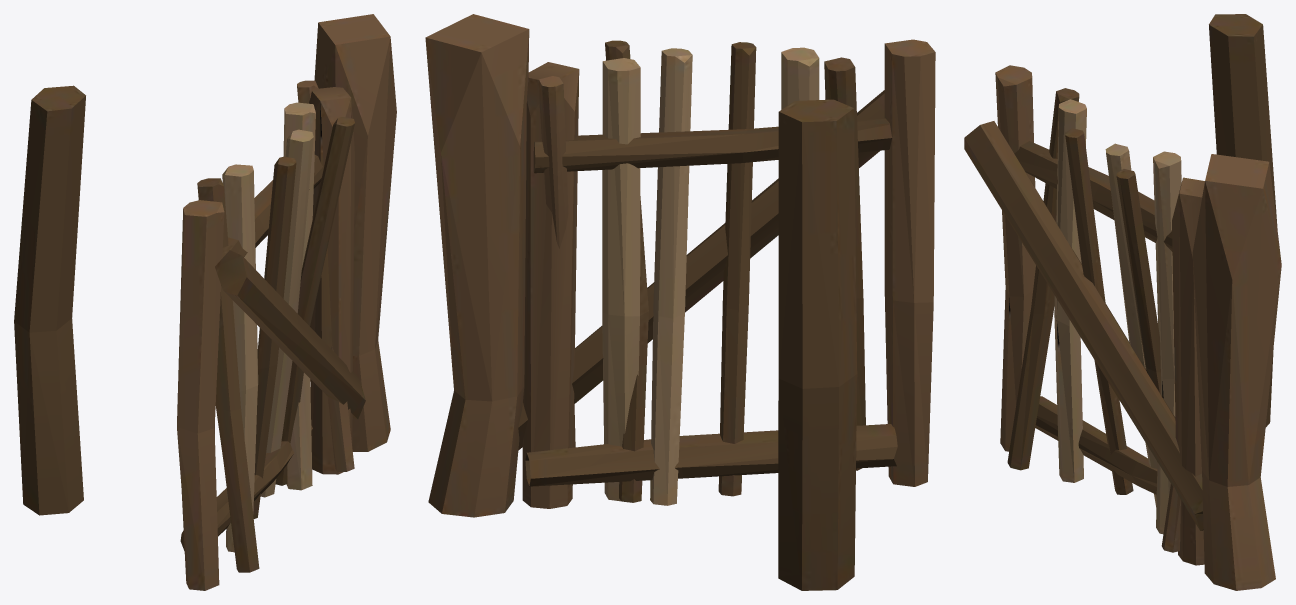
The model's file is gate_stick.glb.
The picture shows the model from 3 angles, left to right: view 1: azimuth 30°, elevation 25°; view 2: azimuth 150°, elevation 25°; view 3: azimuth 270°, elevation 25°; orthographic projection. The views are drawn at different scales.
Parts seen in each view (by area): view 1: gate_stick; view 2: gate_stick; view 3: gate_stick.
Boxes of the visible parts, <box> form: gate_stick: <box>14,14,396,590</box>; gate_stick: <box>425,14,935,590</box>; gate_stick: <box>964,14,1281,590</box>.
Size of the model in its own units: 0.9268 by 1 by 0.7023.
1 material, 1 textured.
